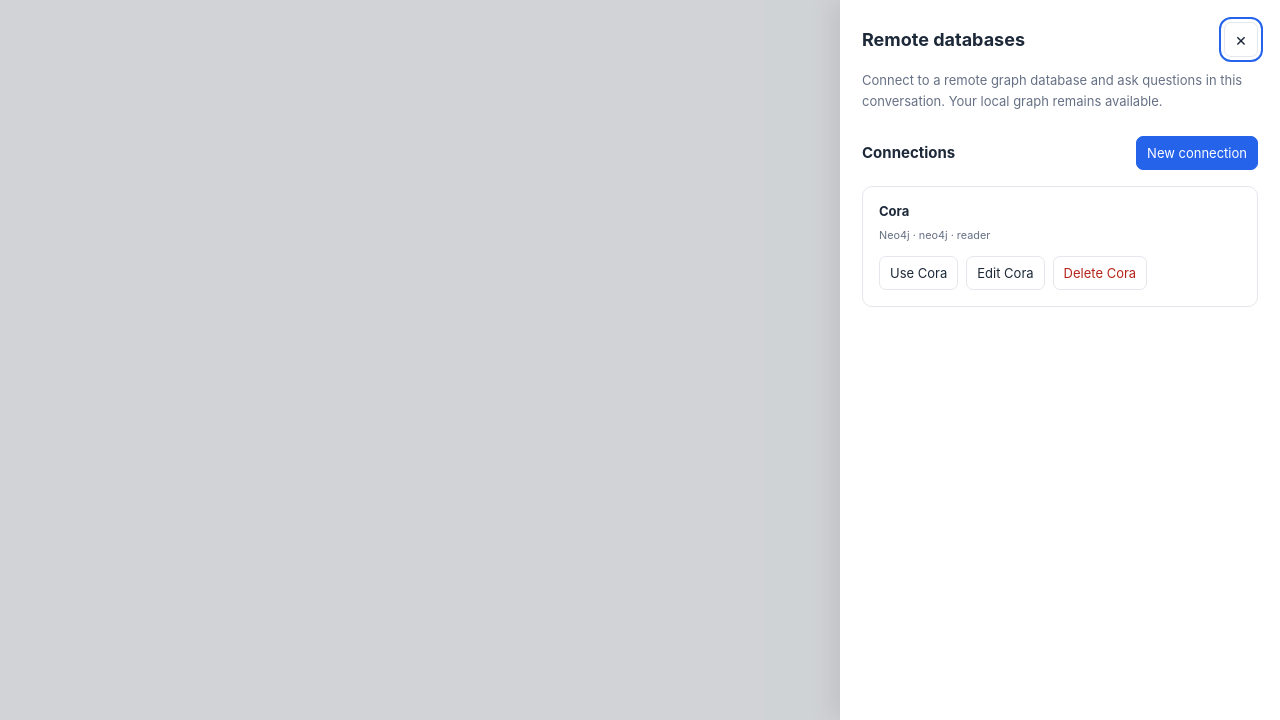
it: shows a controlled connection failure: REMOTE_GRAPH_UNREACHABLE
The image size is (1280, 720).
Click the button "Edit Cora" at [1005, 273], box x1=966 y1=256 x2=1045 y2=290
(page scrolled)
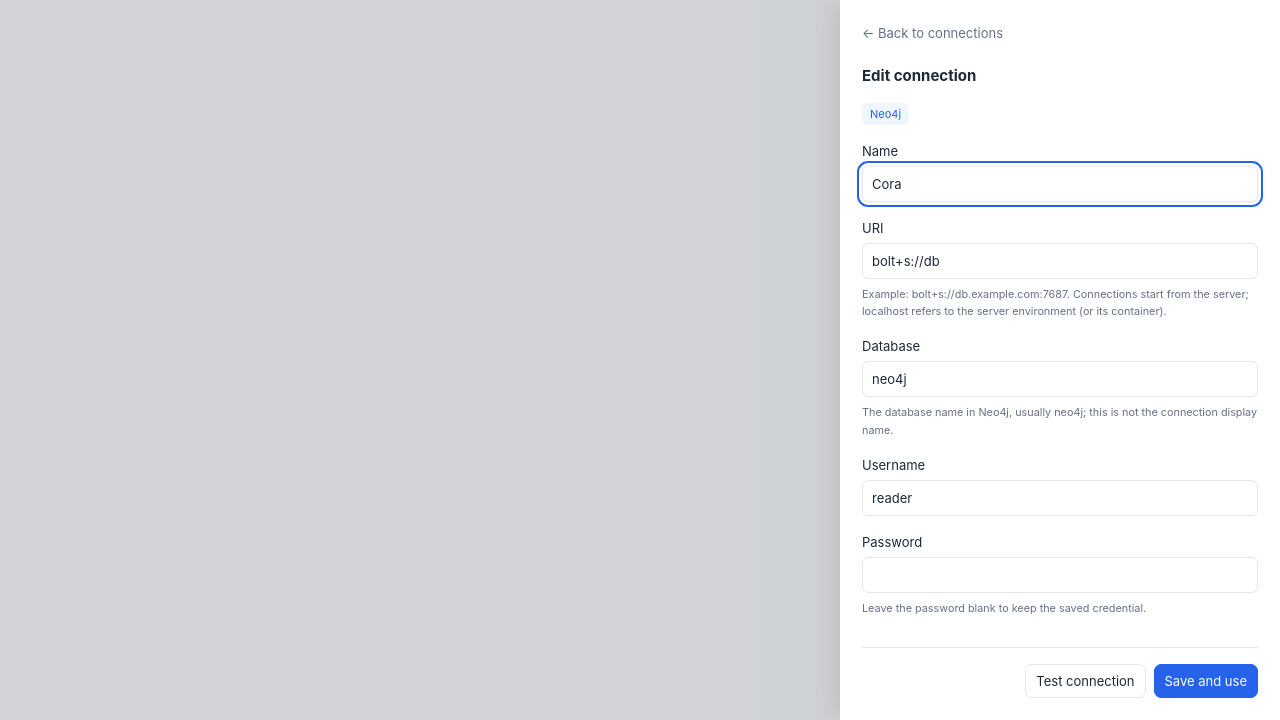
Click the button "Test connection" at [1085, 681], box x1=1025 y1=664 x2=1146 y2=698
(page scrolled)
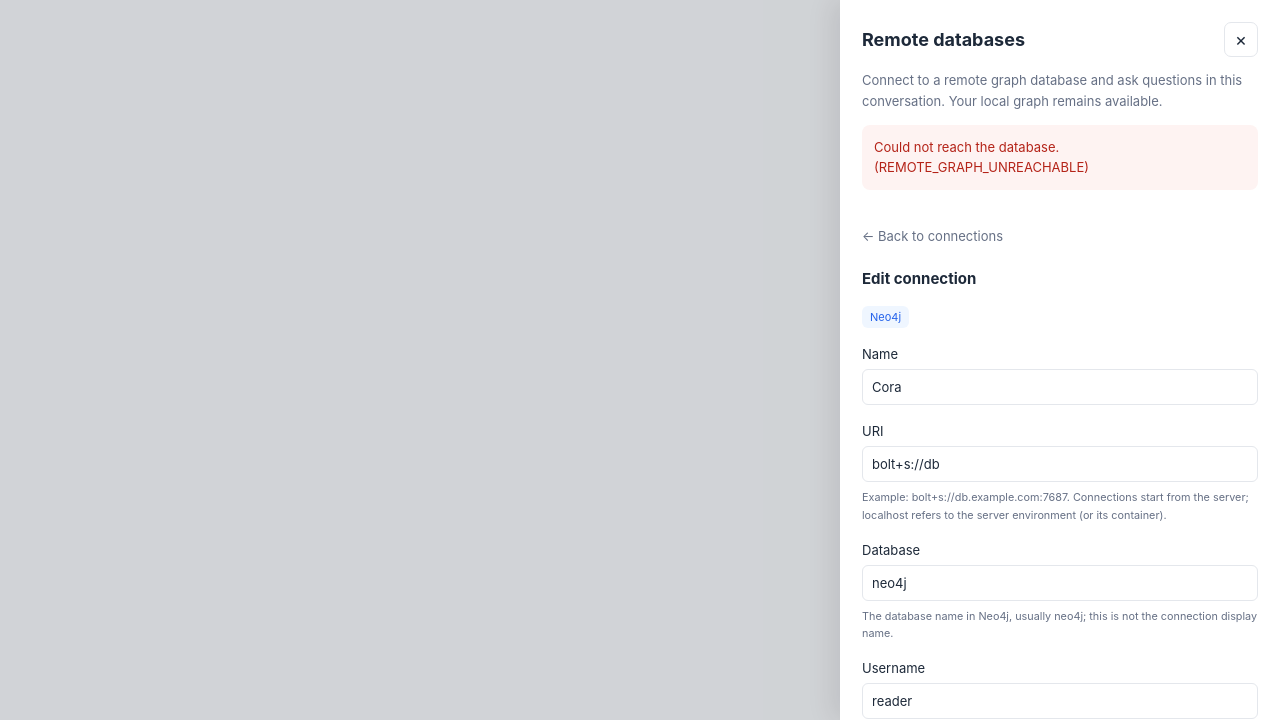
expect the message shows "REMOTE_GRAPH_UNREACHABLE": met, box x1=874 y1=139 x2=1089 y2=175
